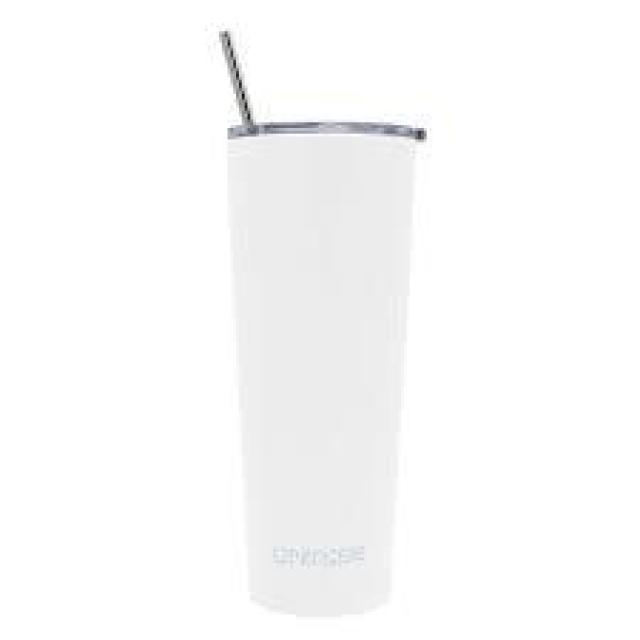bottle: (210, 34, 427, 615)
